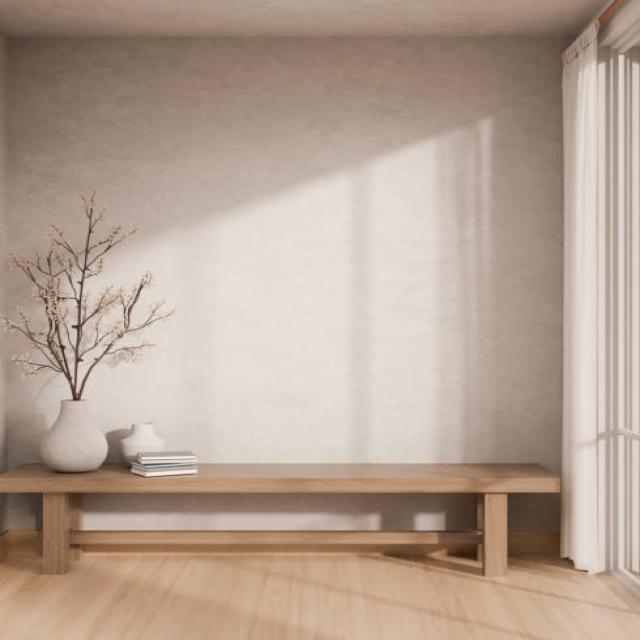table: (0, 460, 560, 577)
